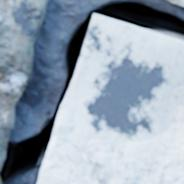brick: (37, 14, 183, 183), (0, 0, 49, 170), (168, 0, 183, 6)
crack: (0, 0, 183, 182)
